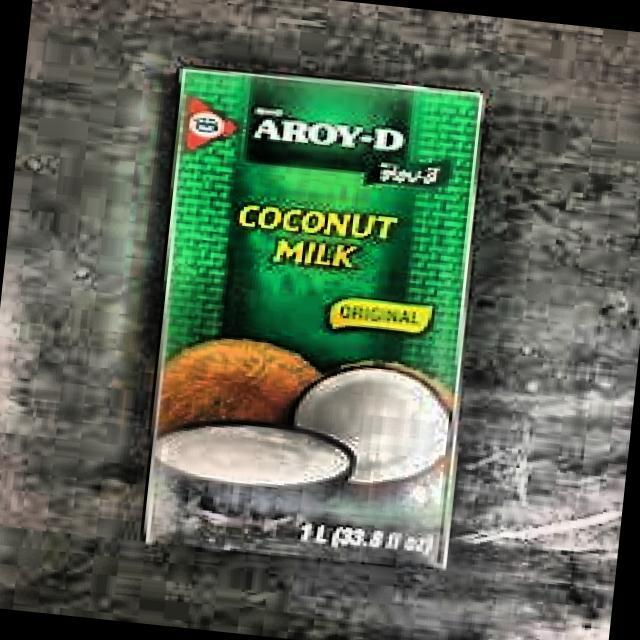cardboard: (127, 56, 496, 575)
